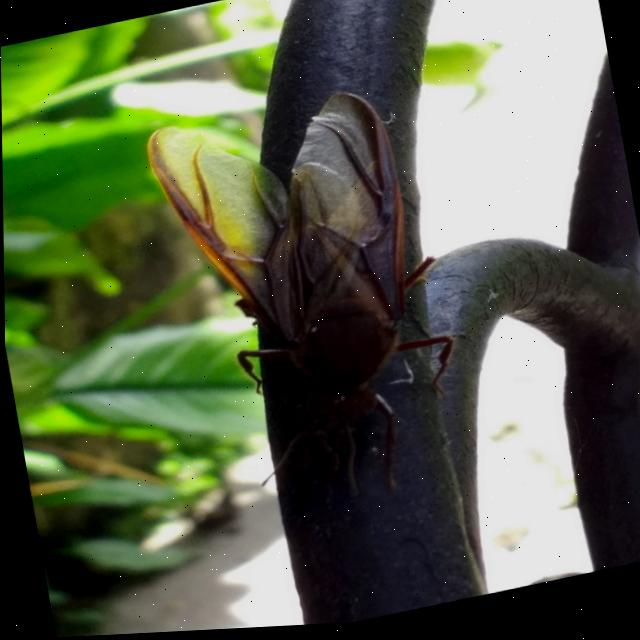Alive-Female-Alate: (141, 77, 480, 533)
